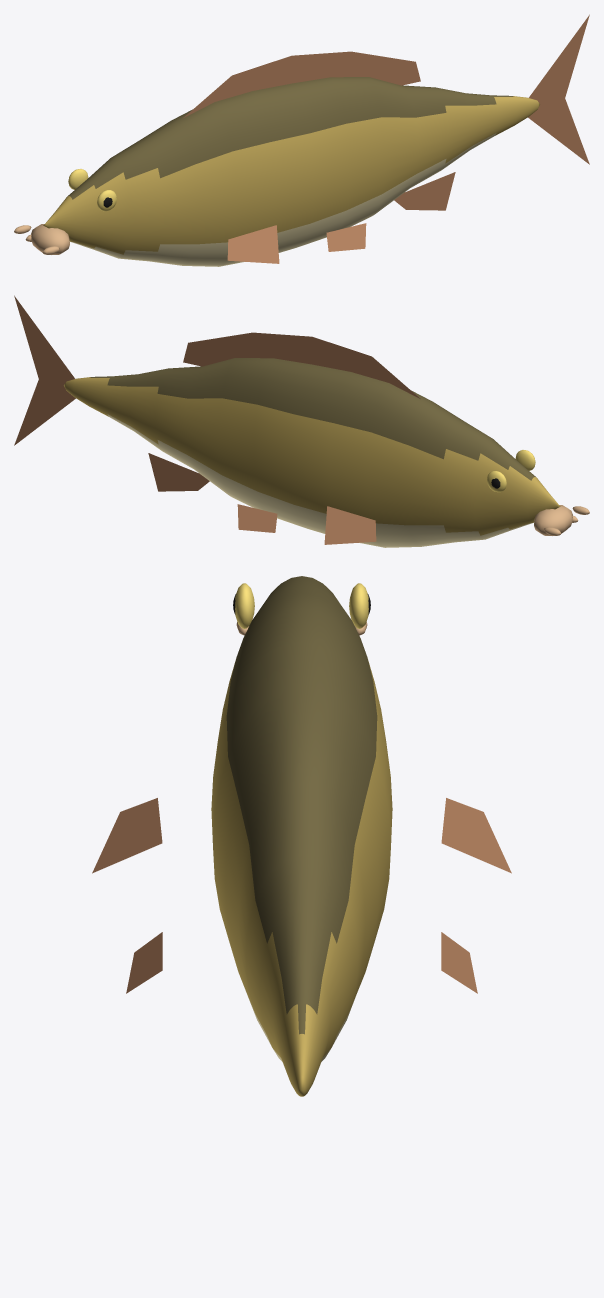
Rendered from karpfen.glb.
3 renders of one model, top to bottom at view 1: azimuth 30°, elevation 25°; view 2: azimuth 150°, elevation 25°; view 3: azimuth 270°, elevation 25°, orthographic. The views are drawn at different scales.
Visible parts, largest first — view 1: Karpfen; view 2: Karpfen; view 3: Karpfen.
Boxes of the visible parts, bbox=[...] form: Karpfen: bbox=[14, 14, 589, 266]; Karpfen: bbox=[14, 295, 589, 547]; Karpfen: bbox=[92, 576, 511, 1096].
Size of the model in its own units: 1.13 by 0.3704 by 0.3657.
